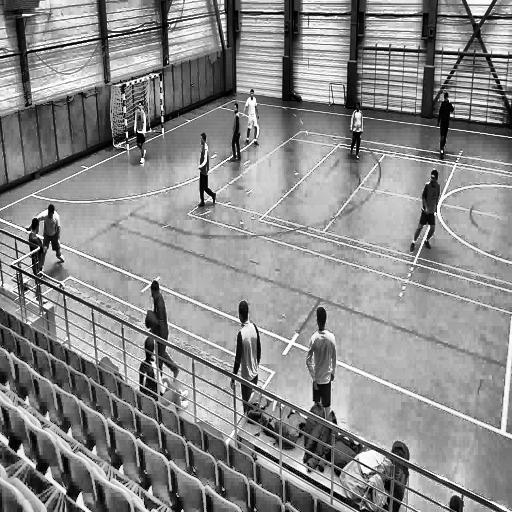ball: (21, 274, 30, 292)
player: (304, 304, 336, 414), (26, 202, 70, 276), (148, 280, 179, 382), (229, 296, 261, 392), (412, 170, 441, 257), (196, 132, 216, 211), (28, 216, 44, 303), (436, 91, 454, 161), (243, 86, 262, 148), (133, 98, 149, 167), (349, 98, 364, 164), (230, 101, 243, 164)
